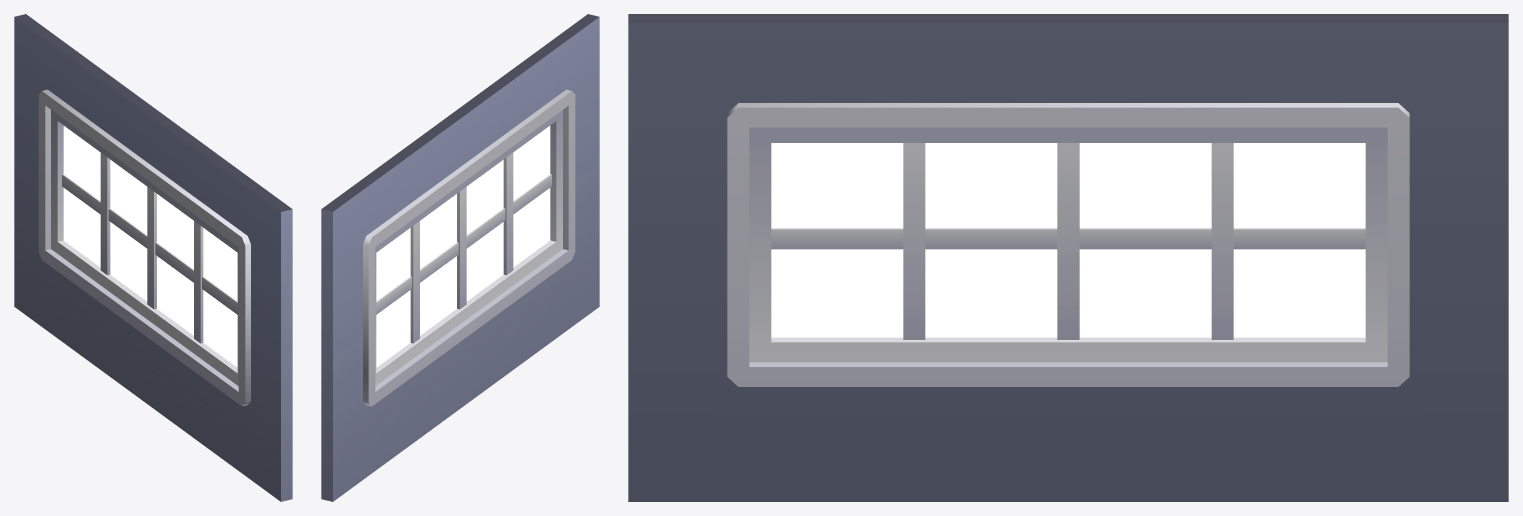
Rendered from kenney-building-wall-window-wide-square-detailed.glb.
3 renders of one model, left to right at view 1: azimuth 30°, elevation 25°; view 2: azimuth 150°, elevation 25°; view 3: azimuth 270°, elevation 25°, orthographic. The views are drawn at different scales.
Visible parts, largest first — view 1: wall-window-wide-square-detailed, (%ignore); view 2: wall-window-wide-square-detailed, (%ignore); view 3: wall-window-wide-square-detailed, (%ignore).
Part boxes in pixels (box(x1,y1,x2,y2)): wall-window-wide-square-detailed: box(14, 14, 292, 501); (%ignore): box(63, 126, 237, 367); wall-window-wide-square-detailed: box(321, 14, 599, 501); (%ignore): box(376, 126, 550, 367); wall-window-wide-square-detailed: box(628, 14, 1508, 501); (%ignore): box(771, 143, 1365, 337).
Bounding box in the file's own units: 0.2002 × 2.4 × 4.
2 materials, 1 textured.
